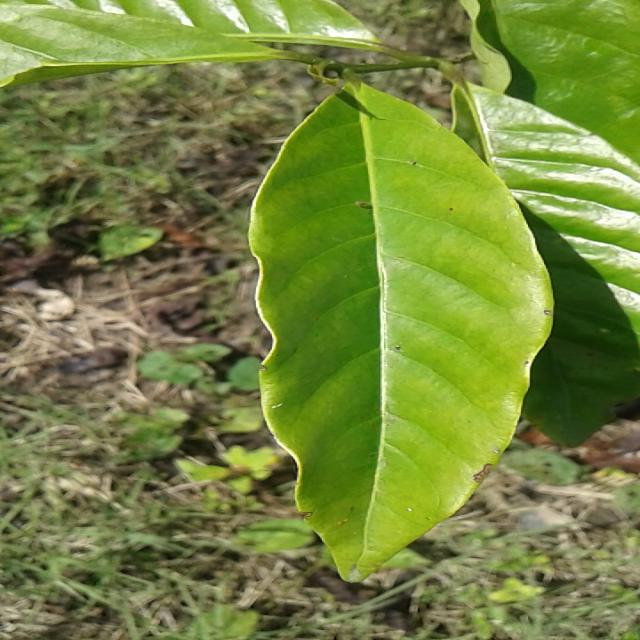Sanas: (246, 82, 555, 585)
